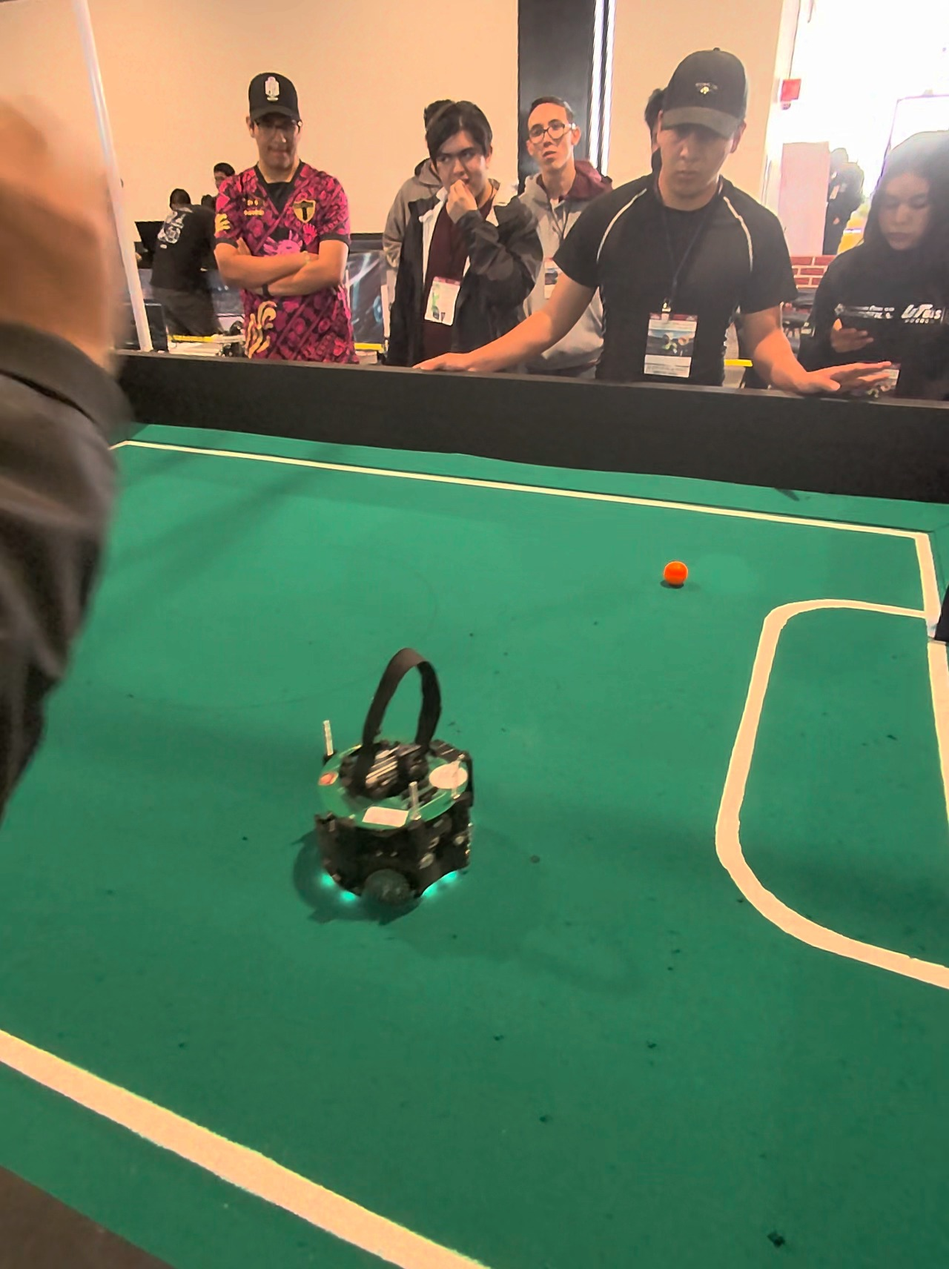Robot: (294, 628, 491, 947)
pelota: (667, 560, 695, 598)
